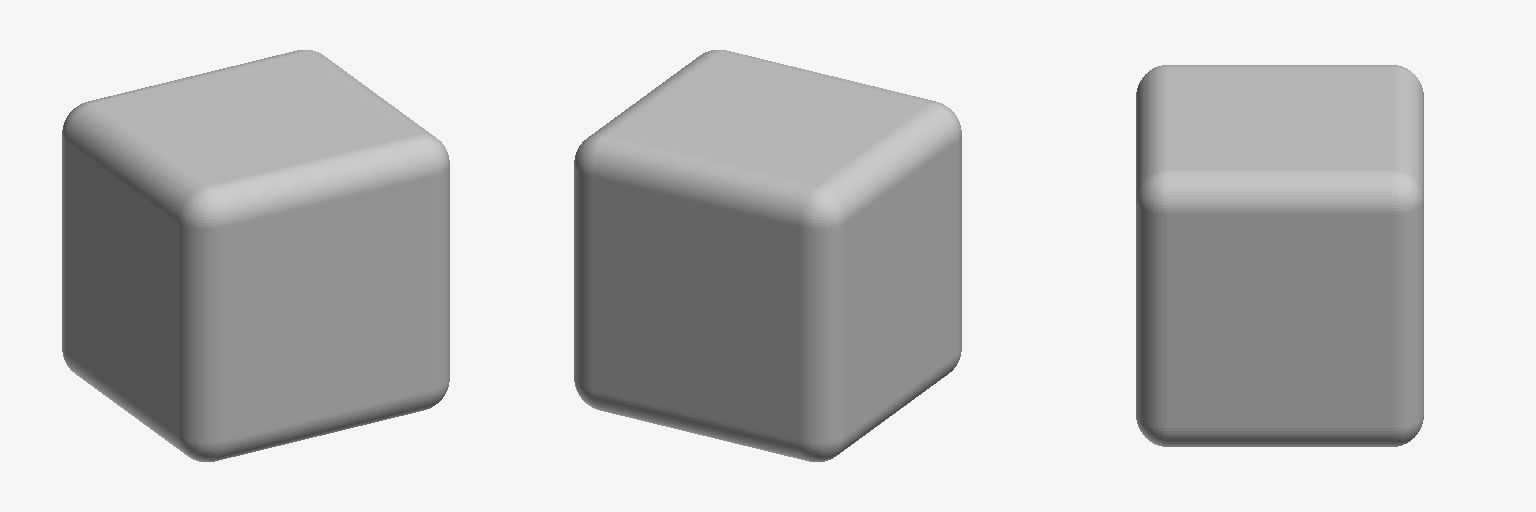
The model's file is shoulder.obj.
The picture shows the model from 3 angles: view 1: azimuth 30°, elevation 25°; view 2: azimuth 150°, elevation 25°; view 3: azimuth 270°, elevation 25°; orthographic projection.
Visible parts, largest first — view 1: shoulder_Cube.011; view 2: shoulder_Cube.011; view 3: shoulder_Cube.011.
Part boxes in pixels (x1,y1,x2,y2): shoulder_Cube.011: (62,50,449,461); shoulder_Cube.011: (574,50,961,461); shoulder_Cube.011: (1136,65,1423,446).
Bounding box in the file's own units: 0.1098 × 0.1075 × 0.1025.